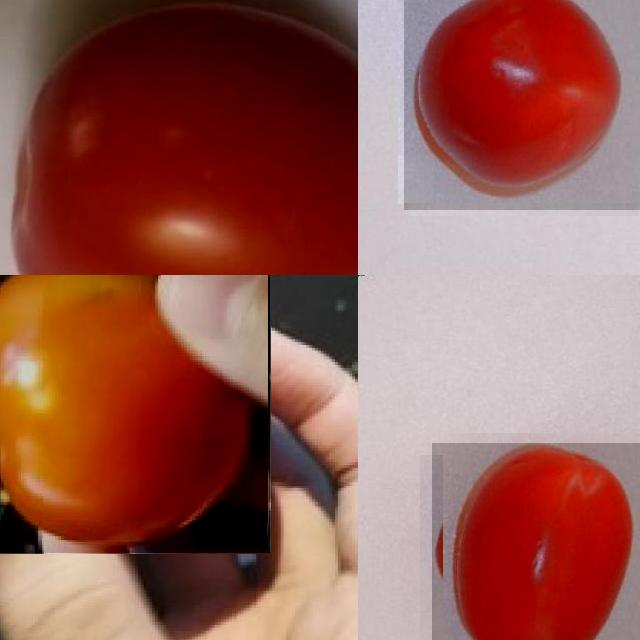Fresh Tomato: (0, 0, 358, 275), (0, 275, 269, 553), (404, 0, 640, 210), (431, 443, 640, 640)
